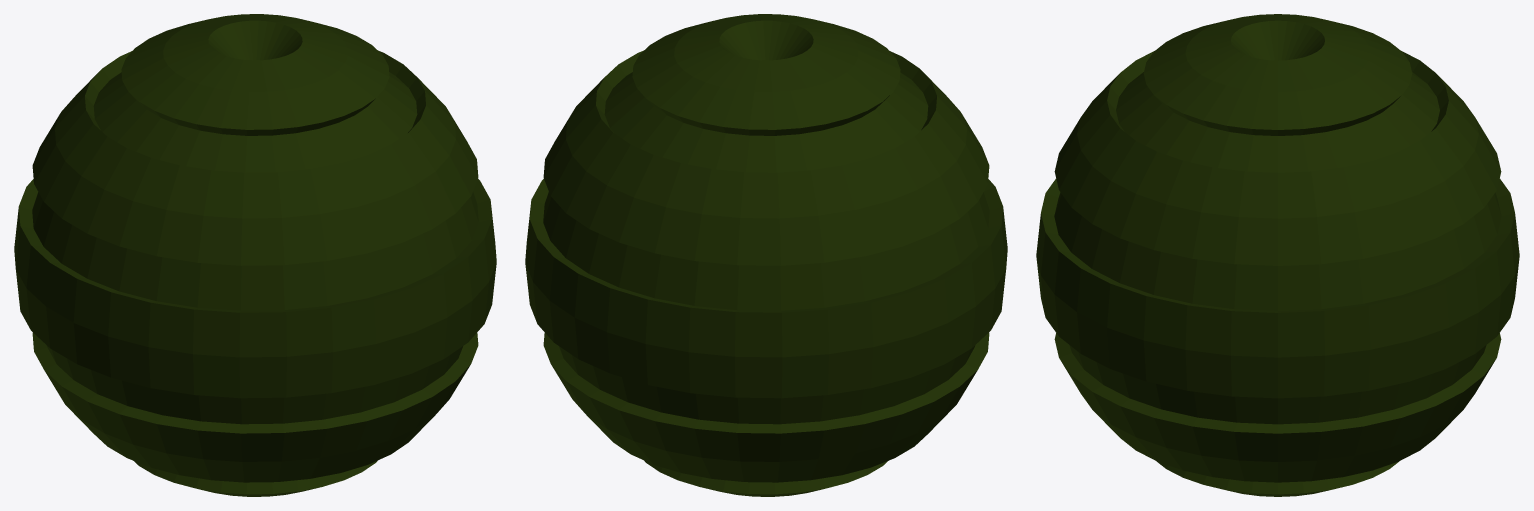
Rendered from player.obj.
3 renders of one model, left to right at view 1: azimuth 30°, elevation 25°; view 2: azimuth 150°, elevation 25°; view 3: azimuth 270°, elevation 25°, orthographic.
Parts seen in each view (by area): view 1: Sphere; view 2: Sphere; view 3: Sphere.
Boxes of the visible parts, left/top/right/bottom form: Sphere: left=14, top=14, right=496, bottom=496; Sphere: left=525, top=14, right=1007, bottom=496; Sphere: left=1036, top=14, right=1519, bottom=496.
Bounding box in the file's own units: 2 × 1.96 × 2.
